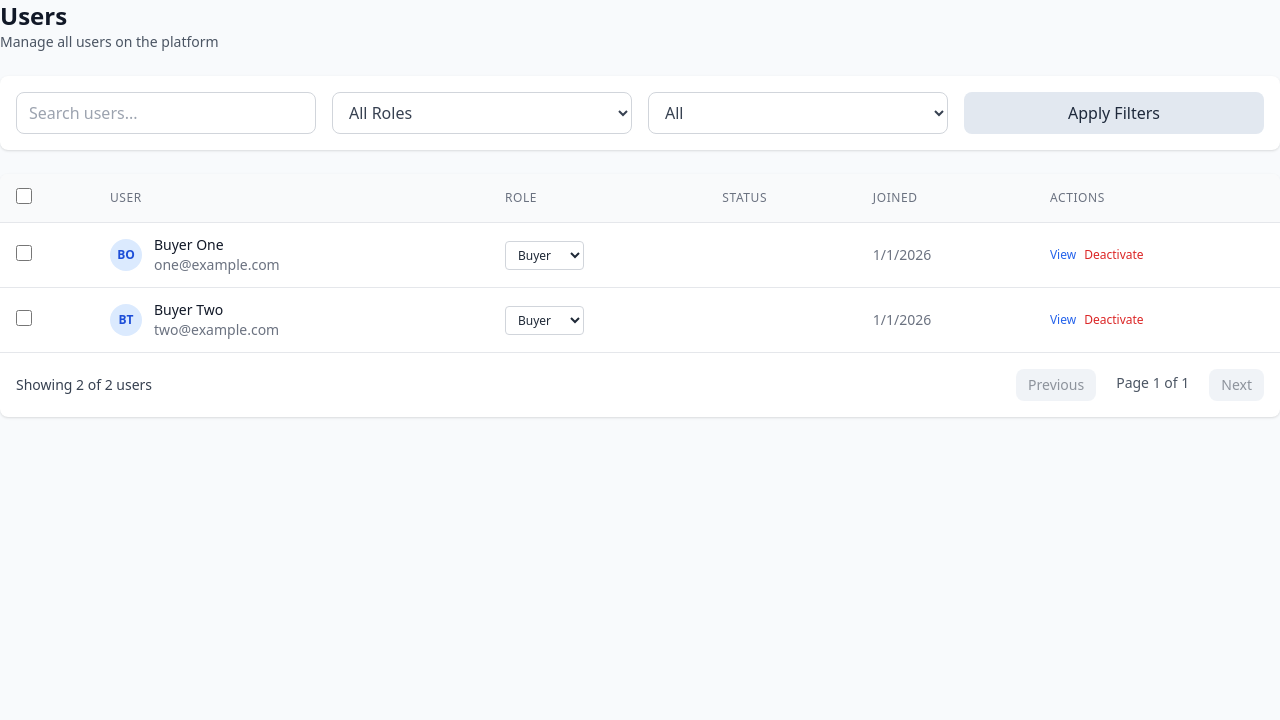
Test: admin Users — deactivation › deactivates a single user and shows the server-provided message
Check: the text "Buyer One" is shown, box top-left (154, 235), bottom-right (224, 254)
What coordinates should you click on to do the following:
click the button "Deactivate" in the row of "BO"
I would click on:
 (1114, 255)
Its box is top-left (1084, 247), bottom-right (1144, 263).
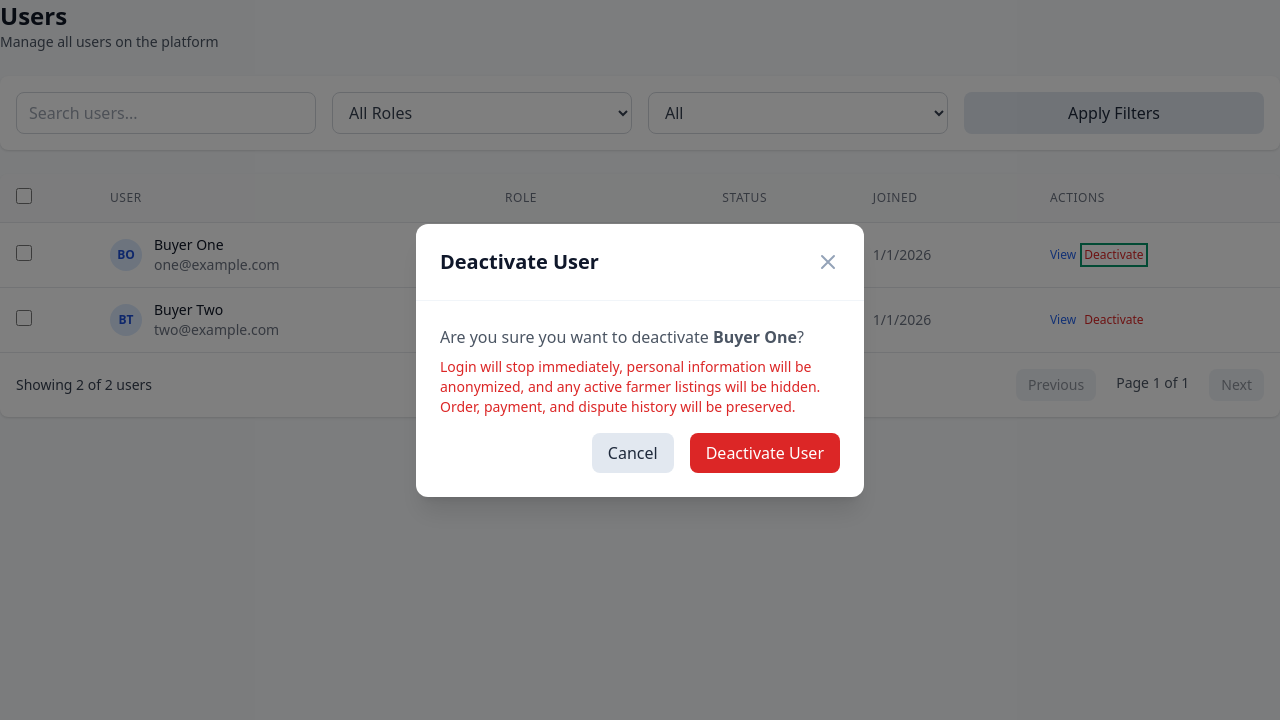
What coordinates should you click on to do the following:
click the button "Deactivate User"
I would click on:
 (765, 452)
Its box is top-left (690, 432), bottom-right (840, 472).
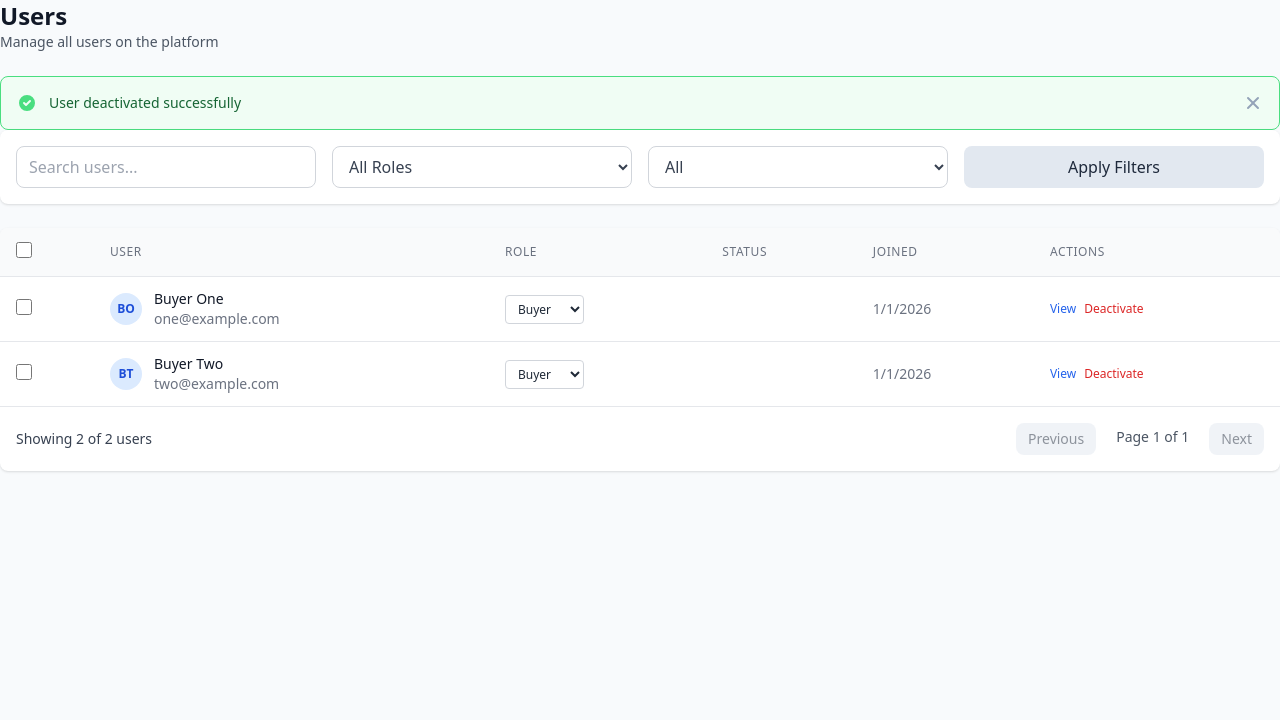
Check: the text "User deactivated successfully" is shown, box top-left (49, 93), bottom-right (241, 112)
